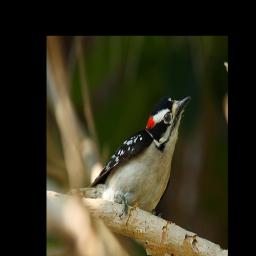Woodpecker: (66, 88, 192, 222)
